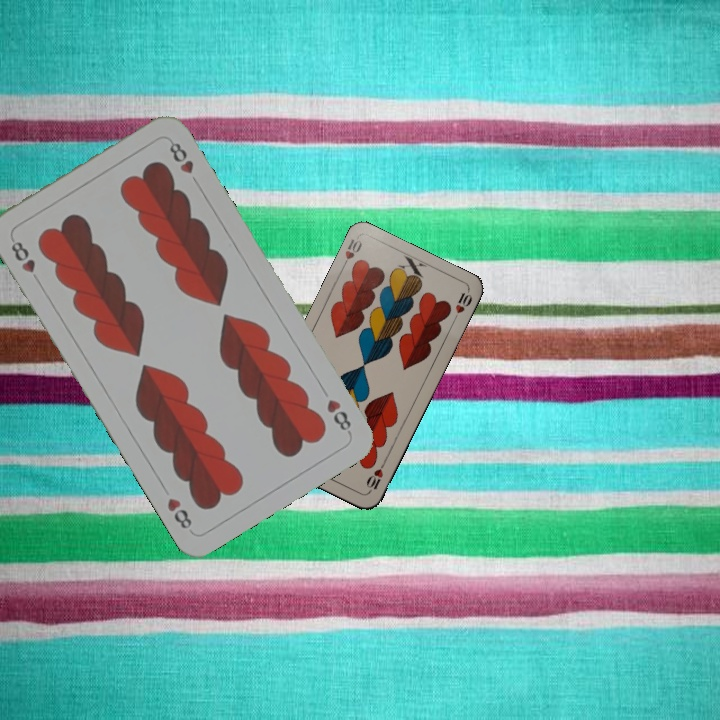H10: (337, 234, 365, 272), (362, 457, 388, 495)
H8: (7, 237, 42, 287), (322, 395, 354, 437)
